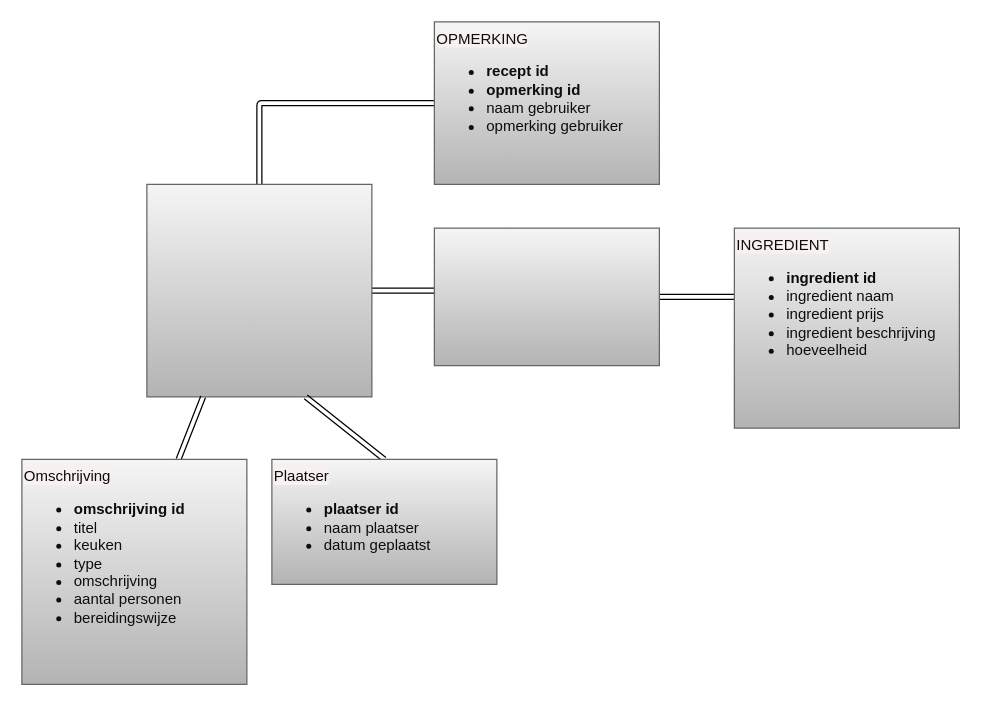
This 981x706 diagram has some shape labels left out. The shapes that lost their labels are listed below. From the top down, each one's centre as x and y in pixels, then its label:
the point at 259,290: RECEPT recept id plaatser id omschrijving id favoriet sterren
the point at 546,296: BOODSCHAP recept id ingredient id aantal
